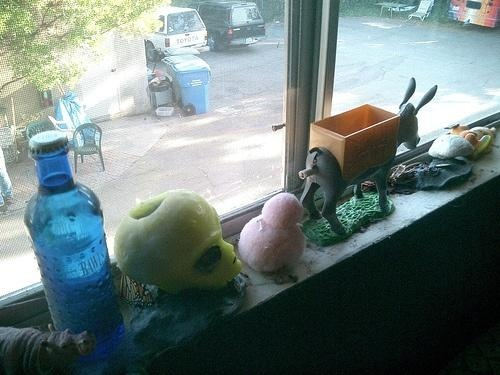bottle: (23, 129, 125, 362)
car: (188, 1, 267, 53), (146, 1, 210, 61)
chair: (73, 124, 106, 174), (26, 120, 58, 135)
